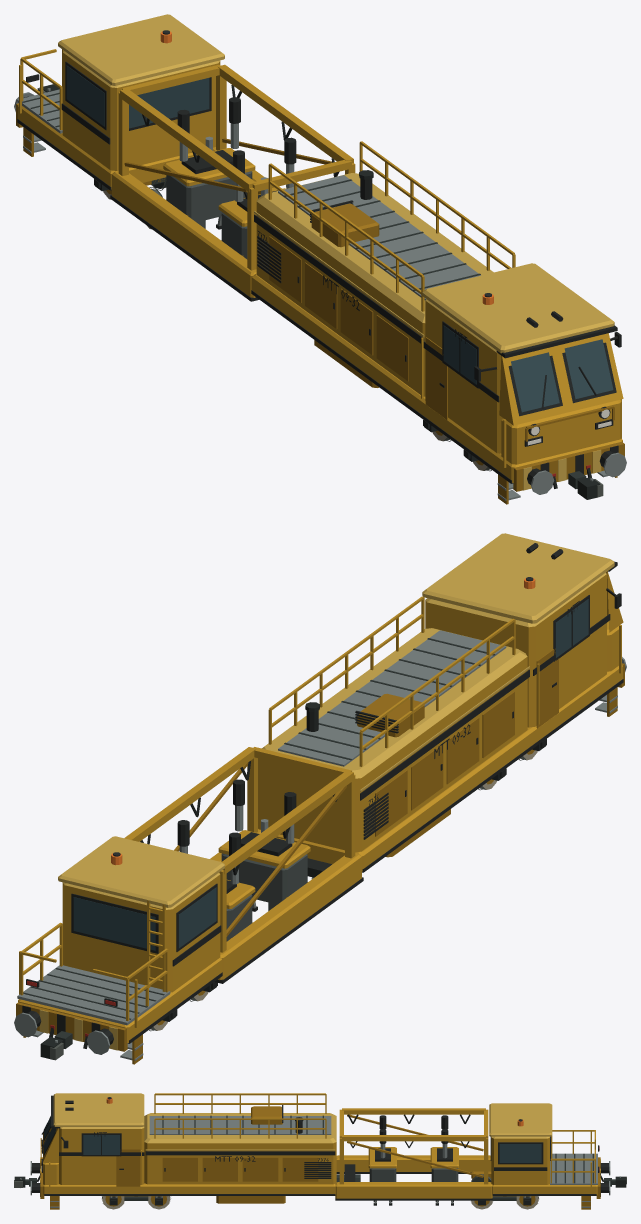
File: riverside-mtt.glb
The picture shows the model from 3 angles, top to bottom: view 1: azimuth 30°, elevation 25°; view 2: azimuth 150°, elevation 25°; view 3: azimuth 270°, elevation 25°; orthographic projection. The views are drawn at different scales.
Visible parts, largest first — view 1: GEO-mtt-body, GEO-mtt-tamper-0, GEO-mtt-tamper-1, GEO-mtt-coupler-1; view 2: GEO-mtt-body, GEO-mtt-tamper-1, GEO-mtt-tamper-0; view 3: GEO-mtt-body, GEO-mtt-tamper-1, GEO-mtt-tamper-0, GEO-mtt-bogie--1, GEO-mtt-bogie-1, GEO-mtt-coupler--1, GEO-mtt-coupler-1, GEO-PIVOT-mtt-wheel--1--0.85-1, GEO-PIVOT-mtt-wheel-1-0.85-1, GEO-PIVOT-mtt-wheel-1--0.85-1.
Boxes of the visible parts, x1,y1,x2,y2 form: GEO-mtt-body: (14,14,626,504); GEO-mtt-tamper-0: (163,136,255,229); GEO-mtt-tamper-1: (218,177,286,259); GEO-mtt-coupler-1: (568,471,603,499); GEO-mtt-body: (14,533,626,1064); GEO-mtt-tamper-1: (218,819,310,911); GEO-mtt-tamper-0: (226,879,255,941); GEO-mtt-body: (30,1093,610,1209); GEO-mtt-tamper-1: (368,1147,396,1205); GEO-mtt-tamper-0: (430,1147,458,1205); GEO-mtt-bogie--1: (471,1171,536,1205); GEO-mtt-bogie-1: (104,1196,167,1205); GEO-mtt-coupler--1: (604,1176,626,1187); GEO-mtt-coupler-1: (14,1176,36,1187); GEO-PIVOT-mtt-wheel--1--0.85-1: (516,1196,538,1209); GEO-PIVOT-mtt-wheel-1-0.85-1: (102,1196,124,1209); GEO-PIVOT-mtt-wheel-1--0.85-1: (148,1196,170,1209).
Bounding box in the file's own units: 3.46 × 4.11 × 22.96.
